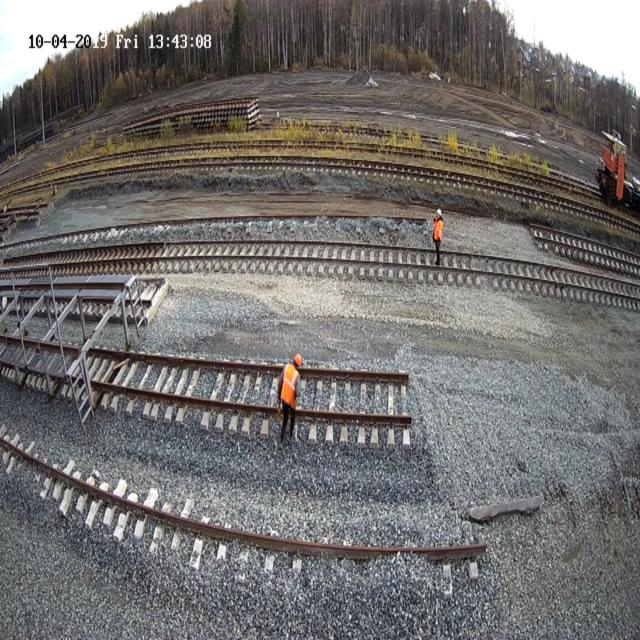Helmet: (294, 353, 302, 367), (436, 208, 442, 216)
Person: (276, 353, 302, 444), (432, 208, 444, 265)
